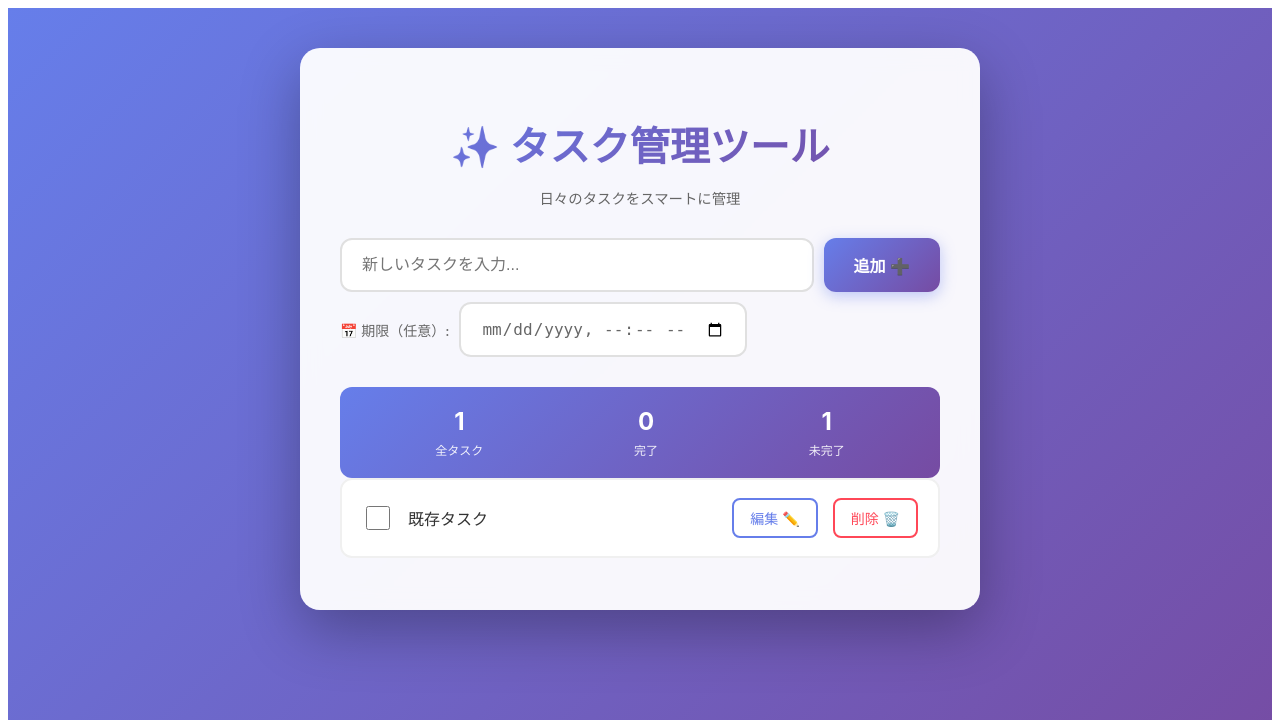
Test: App Component Tests › タスクの追加 › 新しいタスクを追加できる
Expected: the text "既存タスク" is shown, [408, 509, 488, 529]
# 入力フィールドに値を入力
In the field with placeholder "新しいタスクを入力...": (577, 265) [340, 238, 814, 292], type "新しいタスク"
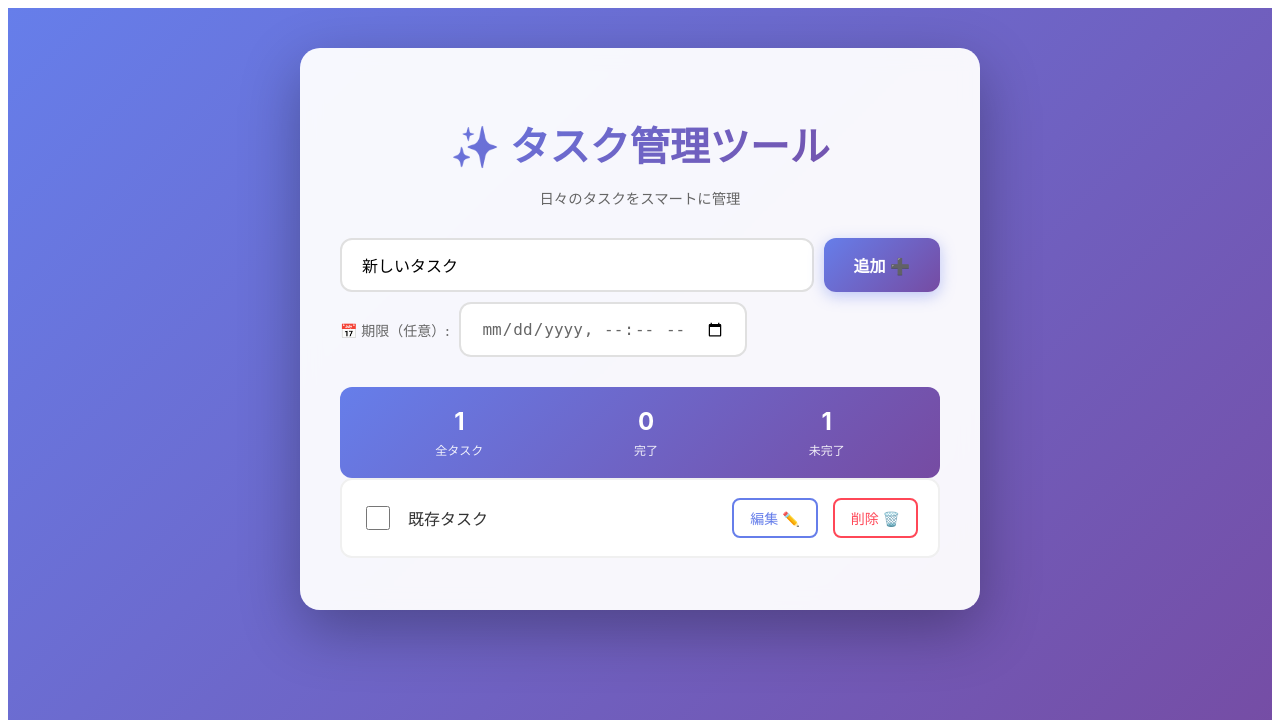
# 追加ボタンをクリック
Click the button "追加 ➕": click(882, 265) [824, 238, 940, 292]
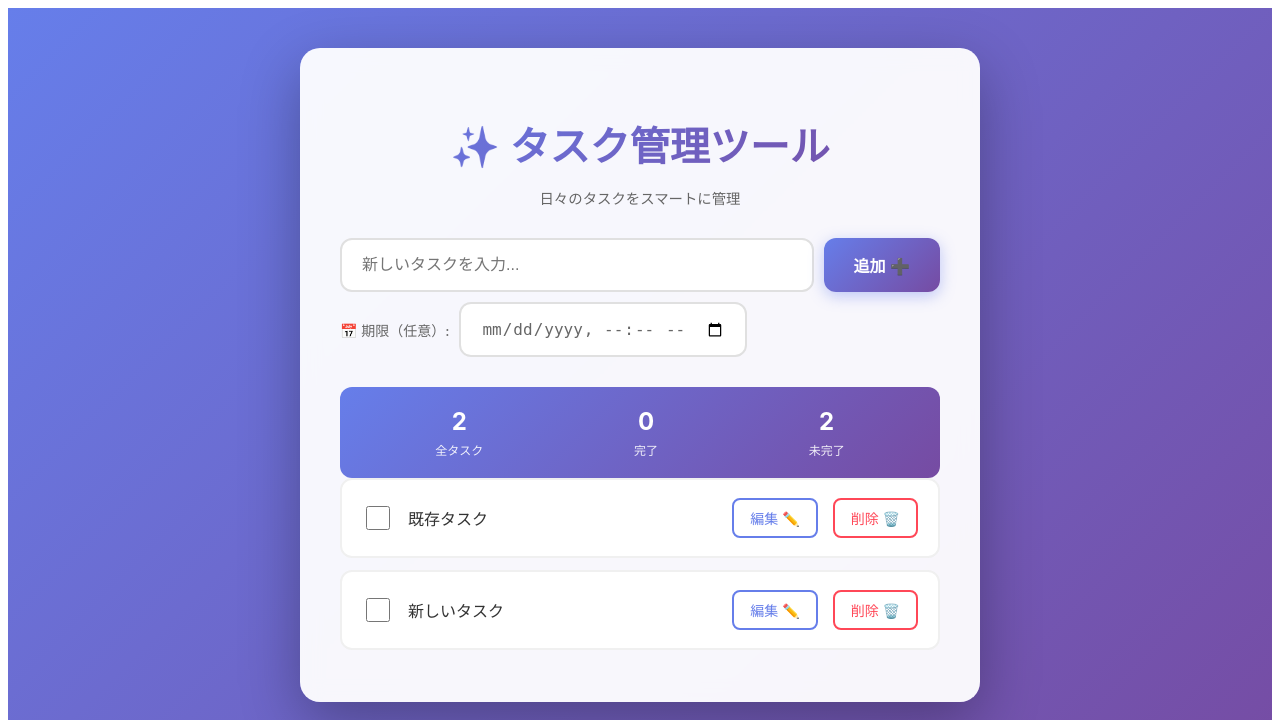
Expected: the text "新しいタスク" is shown, [408, 601, 504, 621]
Expected: the field with placeholder "新しいタスクを入力..." is empty, [340, 238, 814, 292]
